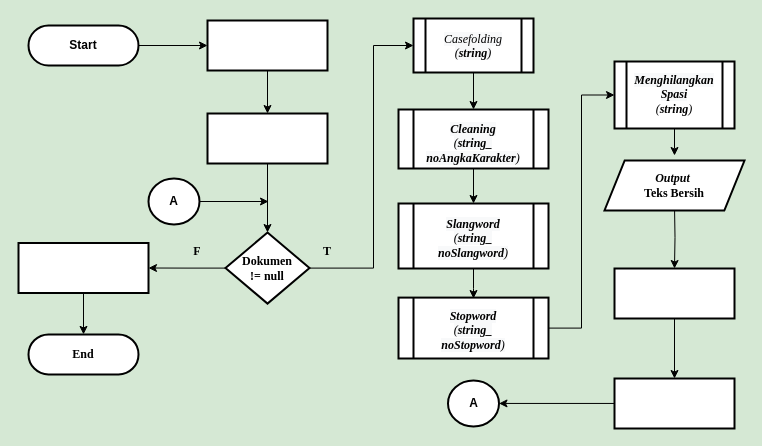
The diagram is 762 pixels wide and 446 high, and some of its shapes have lost their labels. The centre of each missing label's shape, as x and y in pixels:
data_dokumen = []: the point at 267,138
Dokumen selanjutnya: the point at 674,403
Insert Database ( dokumen_simpan): the point at 83,268
Select Dokumen: the point at 267,45
Tampung ke dalam dokumen_simpan: the point at 674,293
